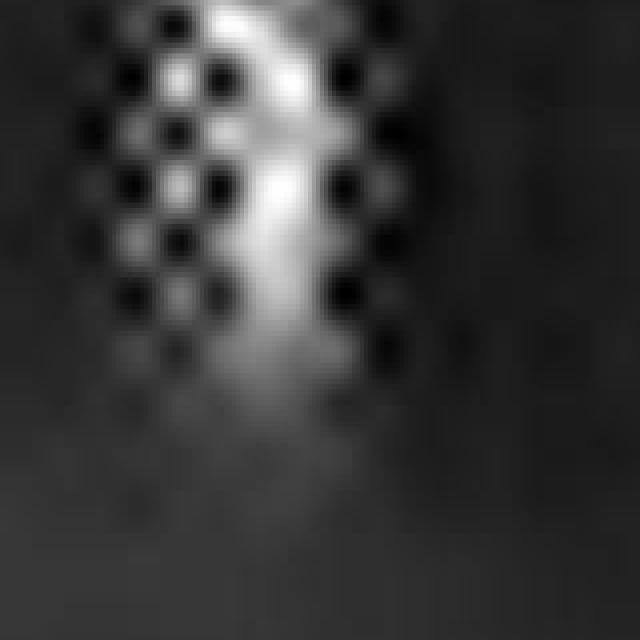person: (137, 1, 377, 449)
